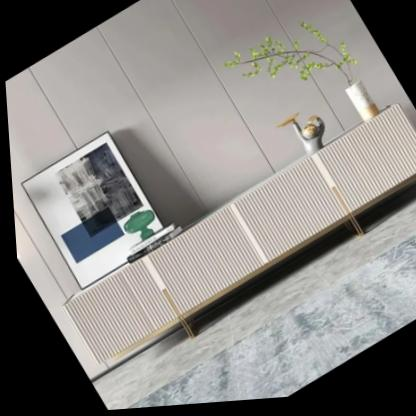Ceramic floor: (87, 203, 416, 411)
Sideboard: (60, 110, 416, 370)
